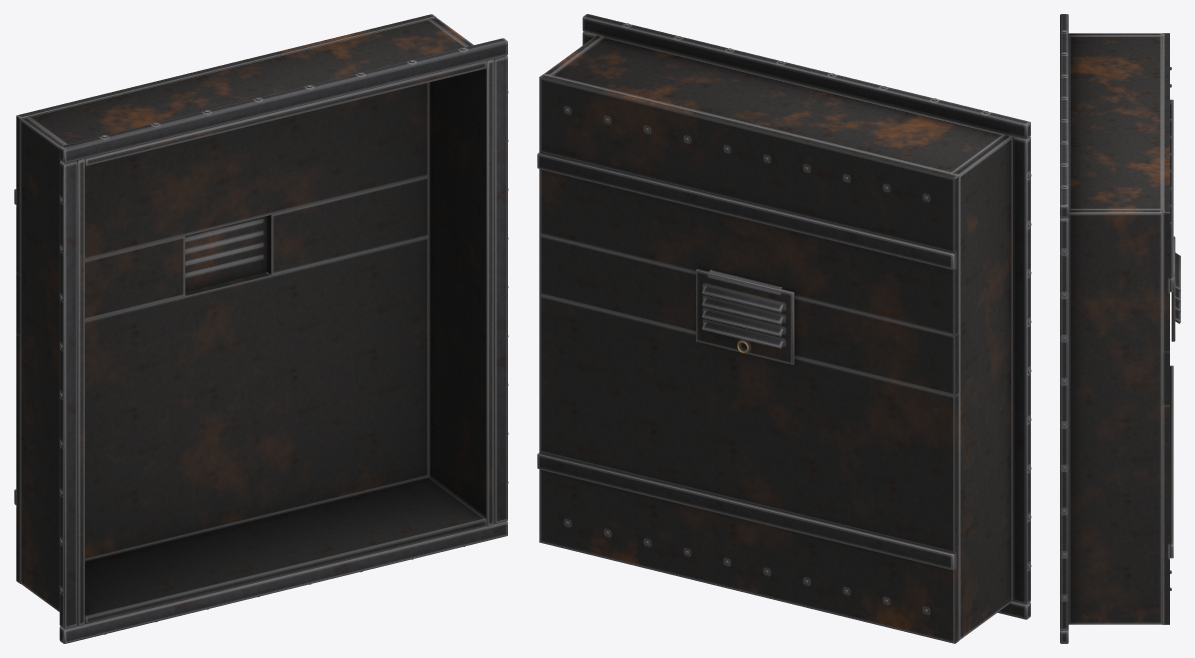
File: DuctEndCap.fbx
The picture shows the model from 3 angles, left to right: view 1: azimuth 30°, elevation 25°; view 2: azimuth 150°, elevation 25°; view 3: azimuth 270°, elevation 25°; orthographic projection. The views are drawn at different scales.
Visible parts, largest first — view 1: DuctEndCap_Main, DuctEndCap_Door0; view 2: DuctEndCap_Main, DuctEndCap_Door0; view 3: DuctEndCap_Main, DuctEndCap_Door0.
Boxes of the visible parts, x1=… form: DuctEndCap_Main: x1=14, y1=14, x2=508, y2=643; DuctEndCap_Door0: x1=185, y1=216, x2=267, y2=291; DuctEndCap_Main: x1=537, y1=14, x2=1031, y2=643; DuctEndCap_Door0: x1=696, y1=268, x2=794, y2=364; DuctEndCap_Main: x1=1060, y1=14, x2=1173, y2=643; DuctEndCap_Door0: x1=1171, y1=236, x2=1180, y2=341.
Bounding box in the file's own units: 625 × 665 × 165.
